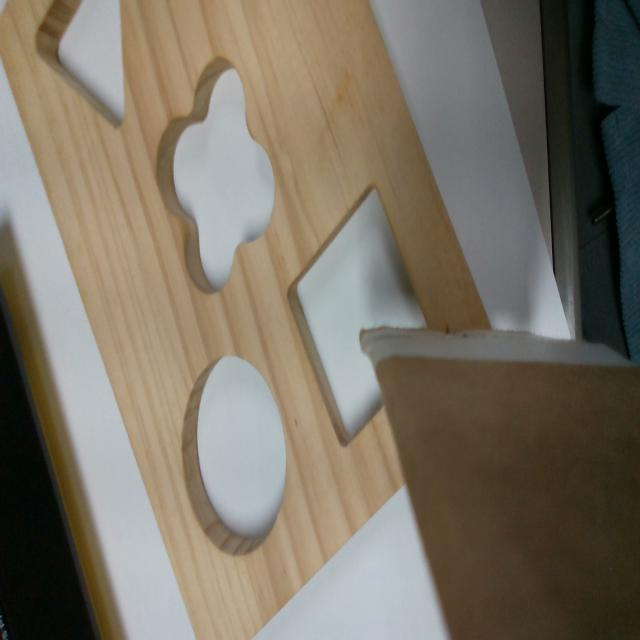circle: (183, 356, 286, 552)
flower: (156, 58, 275, 294)
square: (285, 184, 430, 445)
triangle: (32, 2, 127, 130)
